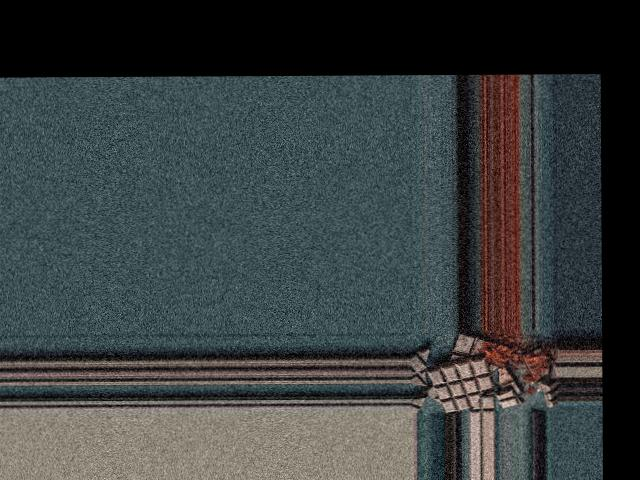chocolate: (425, 356, 492, 412)
